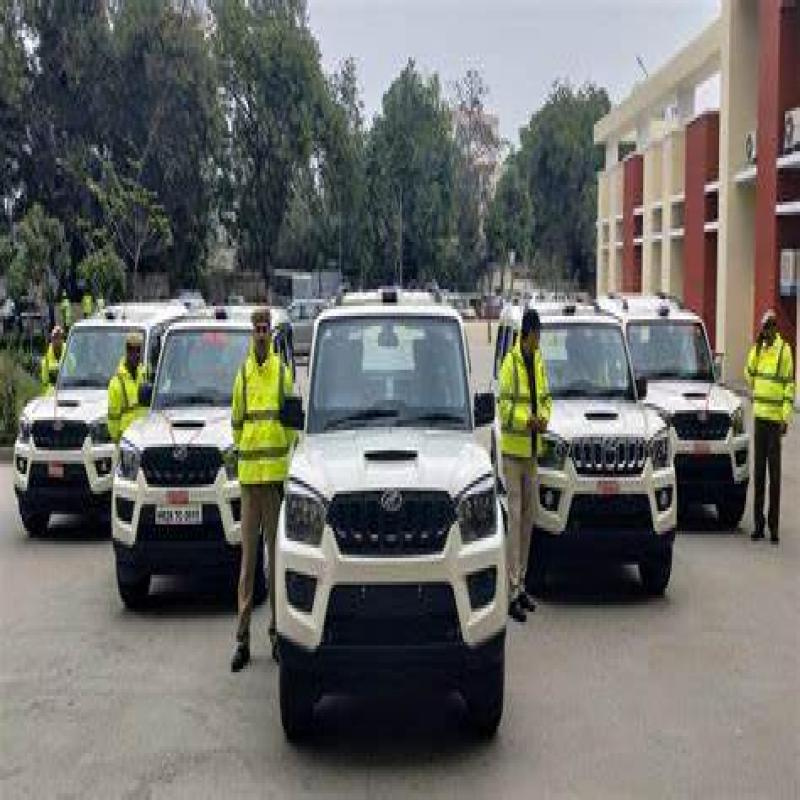AmbulanceSiren: (332, 280, 428, 309)
car: (295, 313, 498, 800), (538, 310, 678, 558), (147, 293, 253, 543)
